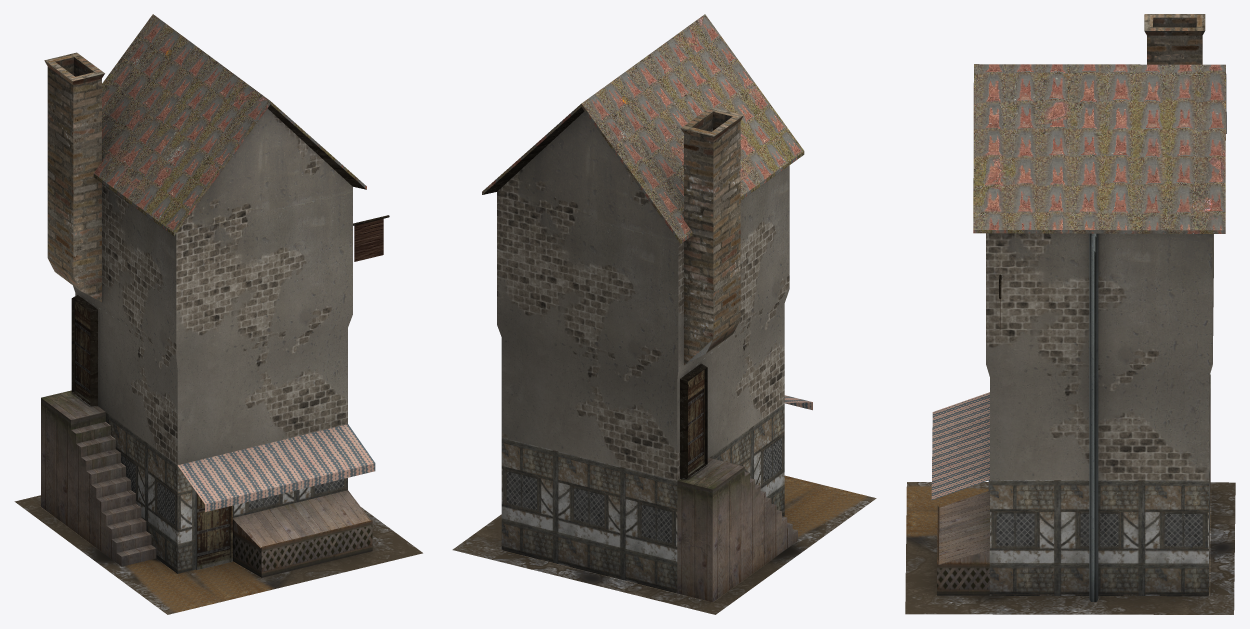
The model's file is Shoppe.FBX.
The picture shows the model from 3 angles, left to right: view 1: azimuth 30°, elevation 25°; view 2: azimuth 150°, elevation 25°; view 3: azimuth 270°, elevation 25°; orthographic projection. The views are drawn at different scales.
Parts seen in each view (by area): view 1: Shoppe; view 2: Shoppe; view 3: Shoppe.
Boxes of the visible parts, left/top/right/bottom form: Shoppe: left=14, top=14, right=422, bottom=614; Shoppe: left=452, top=14, right=876, bottom=614; Shoppe: left=905, top=14, right=1235, bottom=614.
Bounding box in the file's own units: 5.84 × 9.64 × 5.92.
